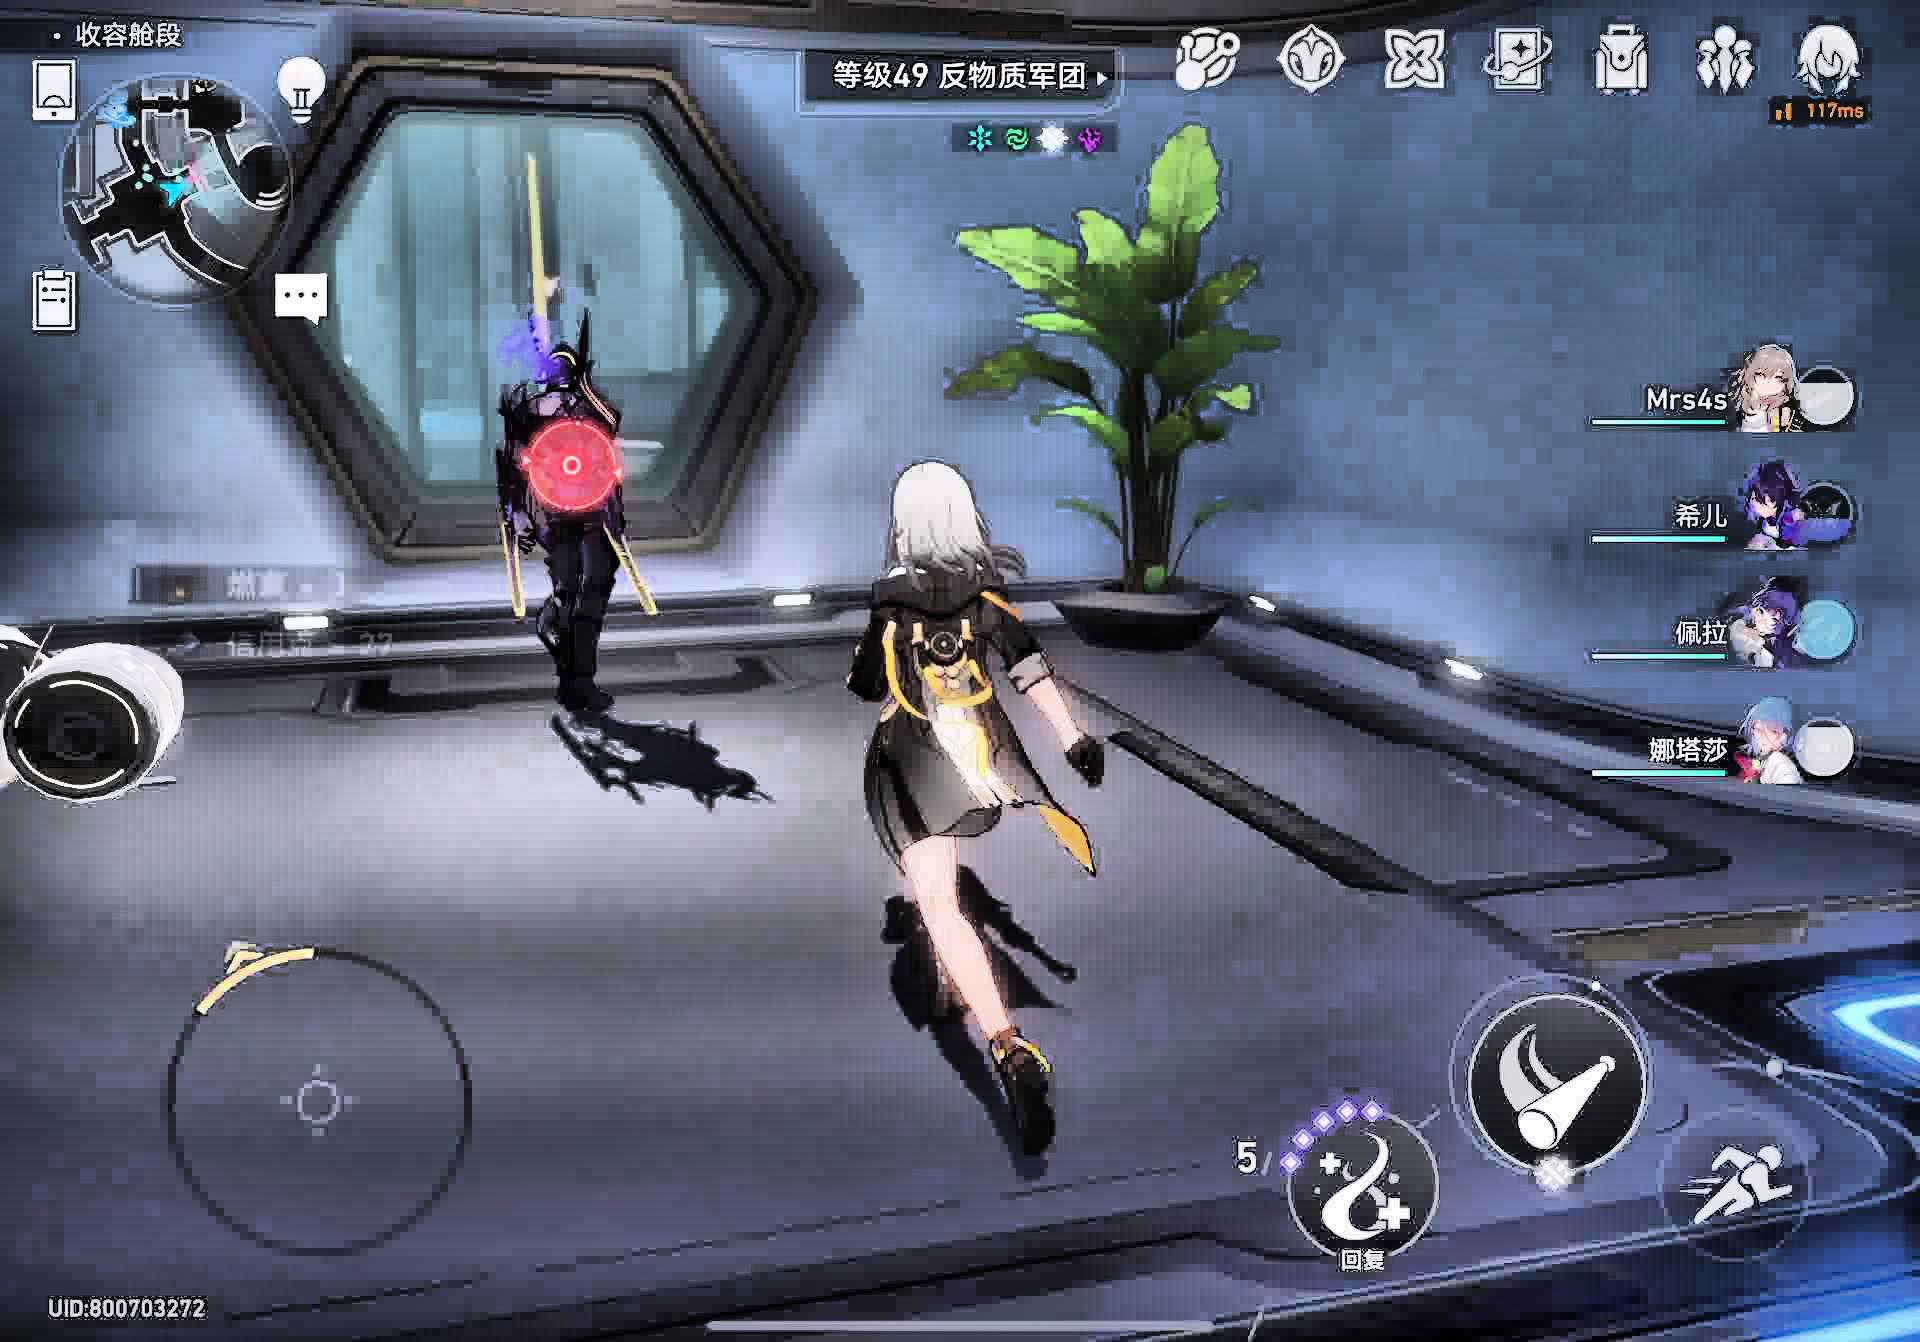Enemy: (470, 341, 652, 738)
Self: (852, 452, 1110, 1189)
